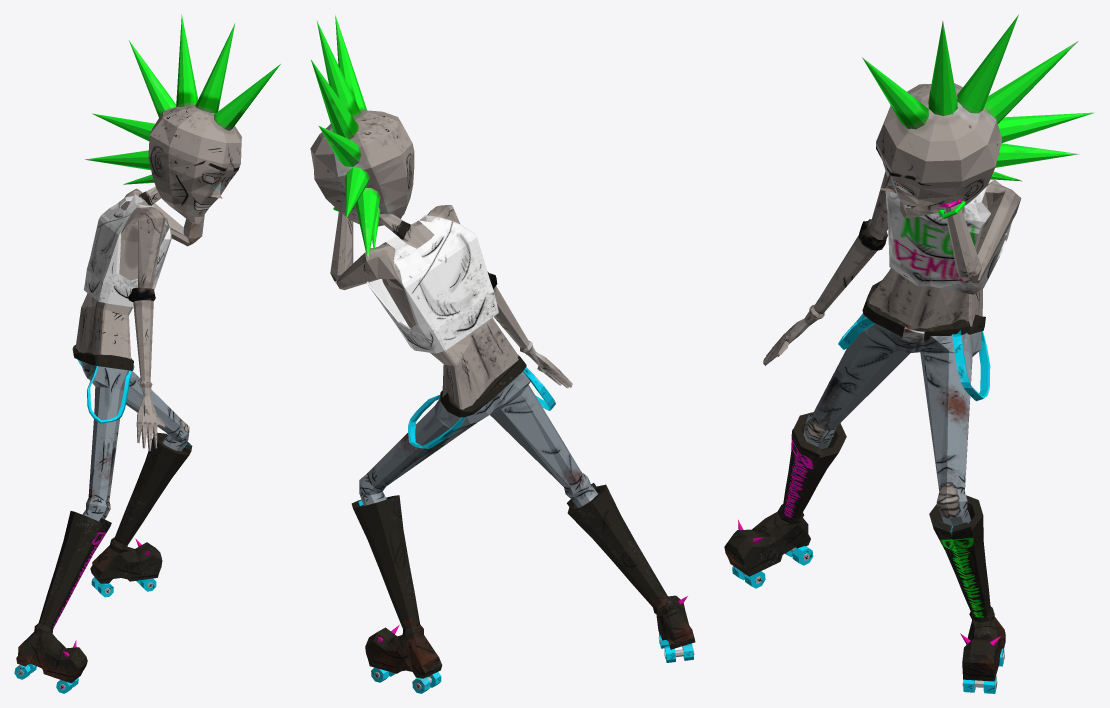
Rendered from punkAnimation_000063.obj.
3 views of the same model, side by side, from view 1: azimuth 30°, elevation 25°; view 2: azimuth 150°, elevation 25°; view 3: azimuth 270°, elevation 25° (orthographic). The views are drawn at different scales.
Parts seen in each view (by area): view 1: Cube.004_Cube.003; view 2: Cube.004_Cube.003; view 3: Cube.004_Cube.003.
Part boxes in pixels (x1,y1,x2,y2): Cube.004_Cube.003: (14, 14, 280, 693); Cube.004_Cube.003: (310, 15, 695, 693); Cube.004_Cube.003: (724, 14, 1094, 693).
Size of the model in its own units: 3.68 by 6.67 by 3.12.
